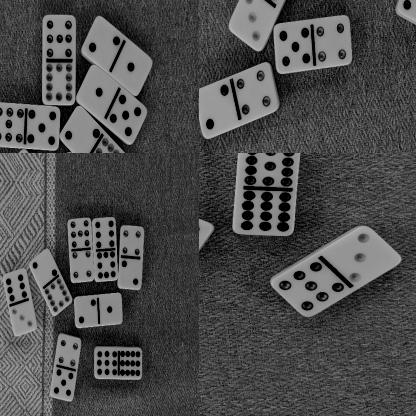pip-1: (77, 64, 116, 112), (117, 44, 153, 94), (98, 292, 124, 325)
pip-10: (43, 60, 76, 104), (44, 275, 73, 315), (89, 135, 129, 153)
pip-11: (238, 153, 302, 188)
pip-12: (234, 187, 298, 236), (118, 346, 144, 379)
pip-2: (199, 81, 237, 138), (82, 15, 120, 66), (60, 105, 101, 150), (30, 246, 59, 286), (118, 257, 144, 289), (74, 295, 98, 327)
pip-3: (331, 226, 402, 284), (228, 0, 270, 49), (10, 300, 38, 334)
pip-4: (236, 61, 280, 118), (314, 13, 352, 68), (57, 333, 82, 368), (119, 224, 144, 257), (70, 248, 94, 282), (199, 210, 214, 264)
pip-5: (274, 21, 313, 72), (110, 92, 148, 144), (26, 105, 60, 150), (50, 367, 76, 402)
pip-6: (3, 267, 30, 302), (93, 217, 117, 248)
pip-7: (272, 260, 345, 318), (42, 13, 76, 59), (0, 102, 26, 147), (68, 216, 93, 250)
pip-8: (95, 248, 119, 283)
pip-9: (94, 345, 119, 380)
